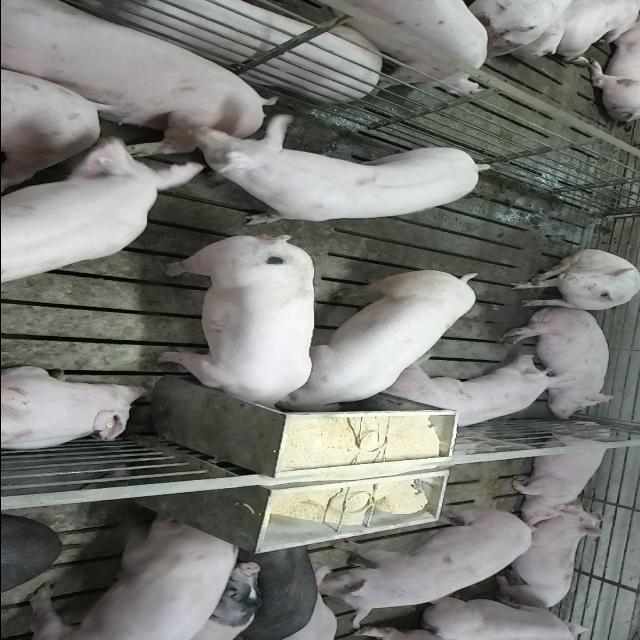Feeding: (278, 264, 480, 412), (157, 240, 316, 418)
Lateral_lying: (4, 4, 278, 163), (31, 0, 379, 99), (501, 306, 619, 421)
Sitting: (506, 250, 638, 312)
Standing: (196, 114, 493, 222), (0, 133, 201, 284), (5, 517, 245, 638), (313, 508, 537, 624), (294, 0, 482, 94), (227, 540, 317, 640)
Sternal_lying: (381, 355, 567, 433), (0, 366, 150, 453), (488, 503, 604, 612), (508, 425, 614, 516)
